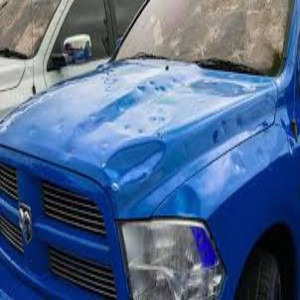bumper: (30, 190, 271, 253)
